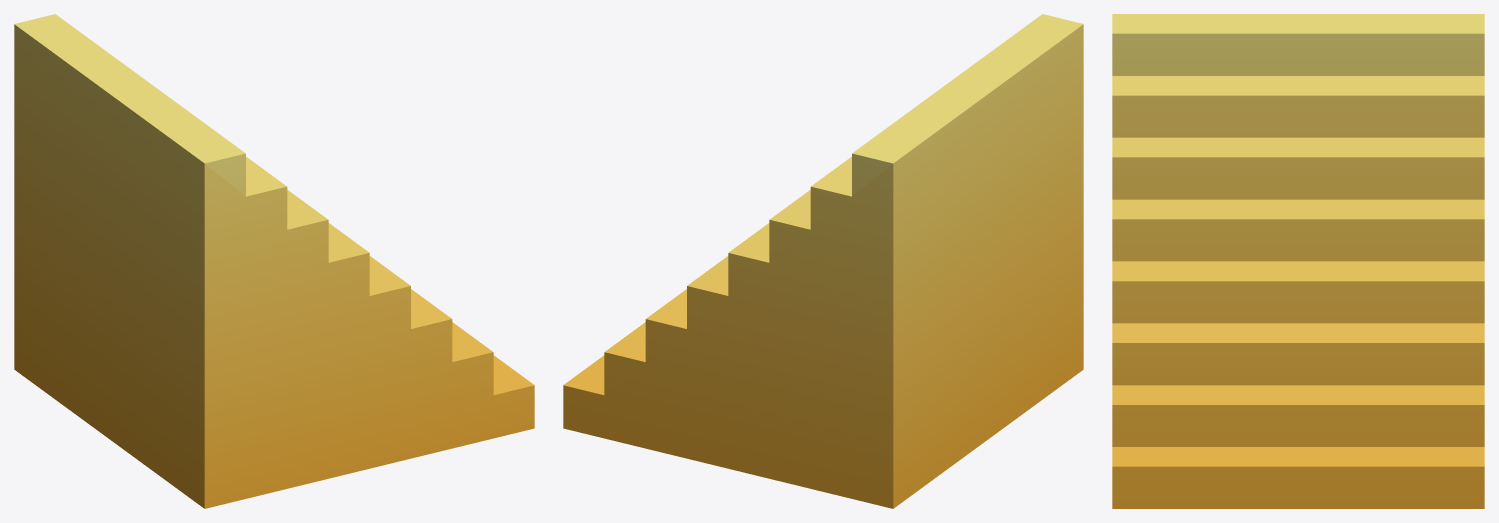
File: primitive_stairs.glb
The picture shows the model from 3 angles, left to right: view 1: azimuth 30°, elevation 25°; view 2: azimuth 150°, elevation 25°; view 3: azimuth 270°, elevation 25°; orthographic projection. The views are drawn at different scales.
Visible parts, largest first — view 1: Primitive_Stairs; view 2: Primitive_Stairs; view 3: Primitive_Stairs.
Part boxes in pixels (x1,y1,x2,y2): Primitive_Stairs: (14,14,534,508); Primitive_Stairs: (563,14,1083,508); Primitive_Stairs: (1112,14,1484,508).
Bounding box in the file's own units: 4 × 4 × 4.
Materials: 1 (1 with a texture image).
